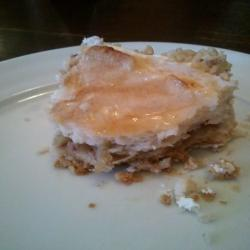apple_pie: (46, 32, 241, 186)
